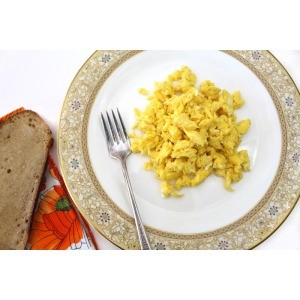egg_brain food: (136, 80, 239, 189)
